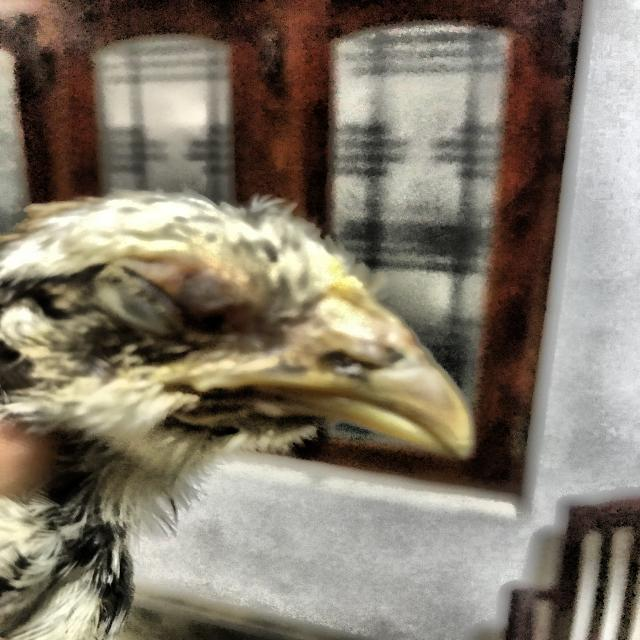Coryza: (13, 188, 496, 505)
